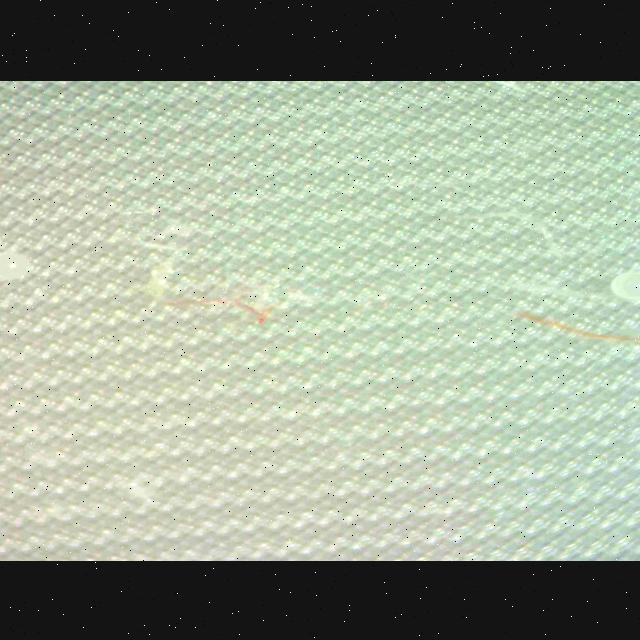Fibre: (144, 283, 318, 329), (506, 303, 640, 345), (0, 132, 16, 245)
